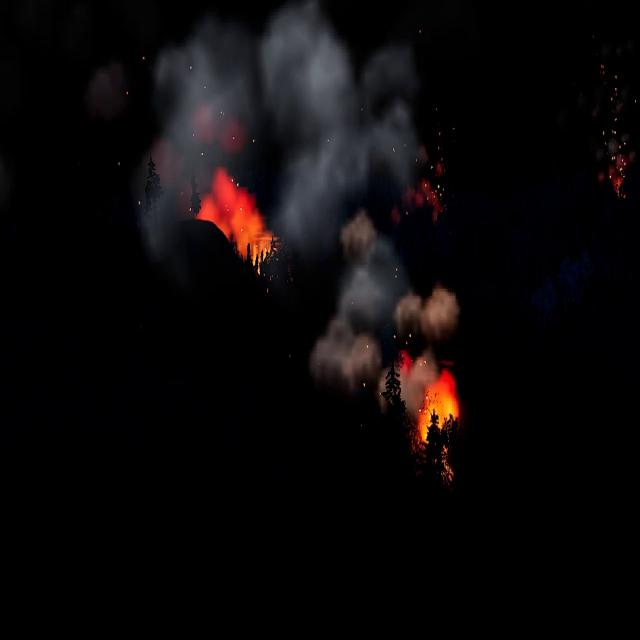fire: (194, 170, 276, 273), (417, 371, 461, 450), (413, 177, 443, 221), (602, 154, 630, 197), (599, 63, 605, 76)
smoke: (128, 9, 452, 416), (86, 61, 128, 117), (603, 68, 630, 150)
